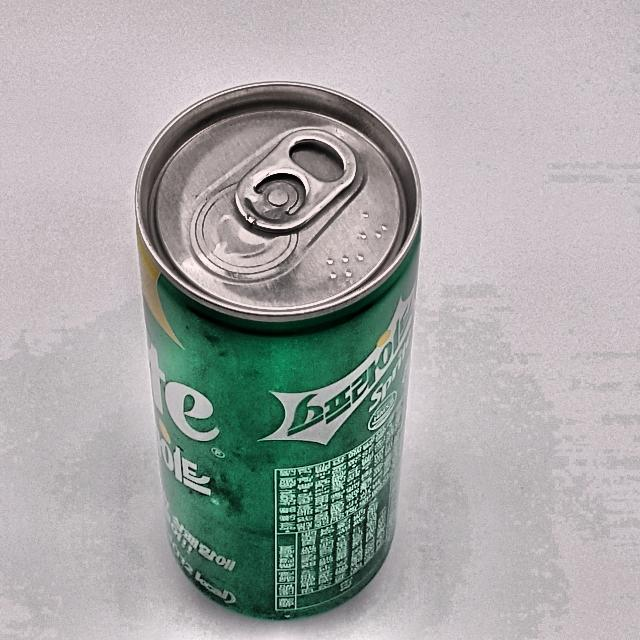sprite: (135, 82, 420, 620)
